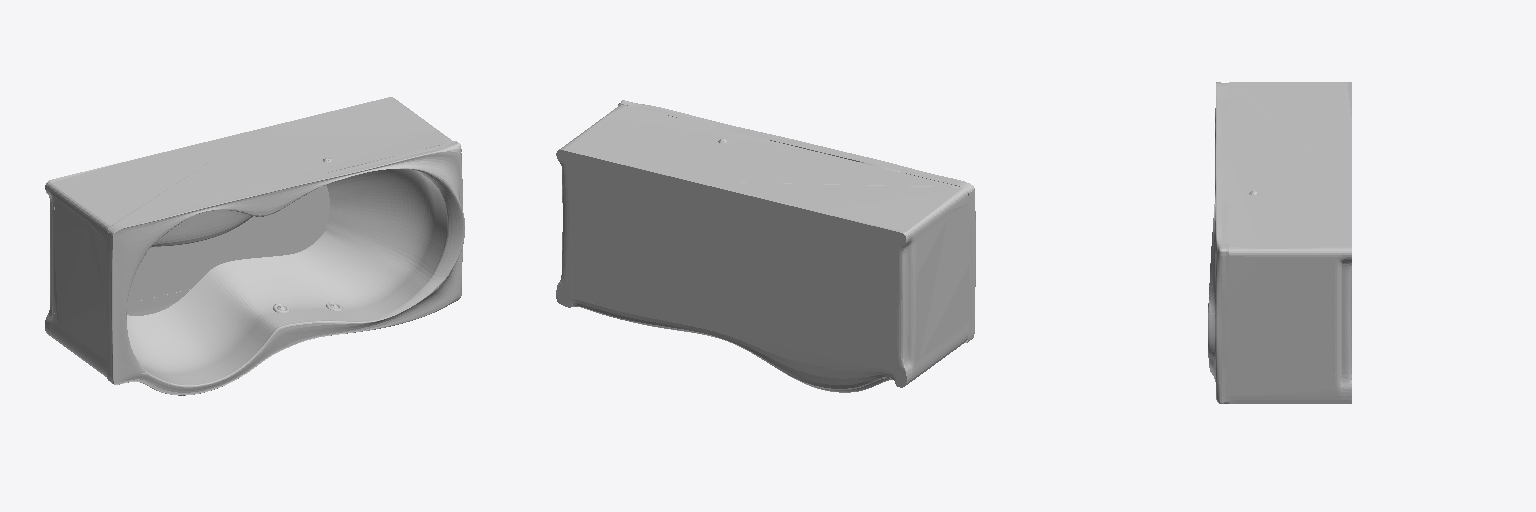
File: vasca.obj
The picture shows the model from 3 angles: view 1: azimuth 30°, elevation 25°; view 2: azimuth 150°, elevation 25°; view 3: azimuth 270°, elevation 25°; orthographic projection.
Visible parts, largest first — view 1: Object02, Object01; view 2: Object01, Object02; view 3: Object01, Object02.
Part boxes in pixels (x1,y1,x2,y2): Object02: (106, 141, 464, 395); Object01: (45, 97, 452, 376); Object01: (556, 105, 968, 392); Object02: (618, 100, 975, 342); Object01: (1229, 82, 1351, 403); Object02: (1208, 82, 1228, 403).
Bounding box in the file's own units: 1695 × 857 × 603.